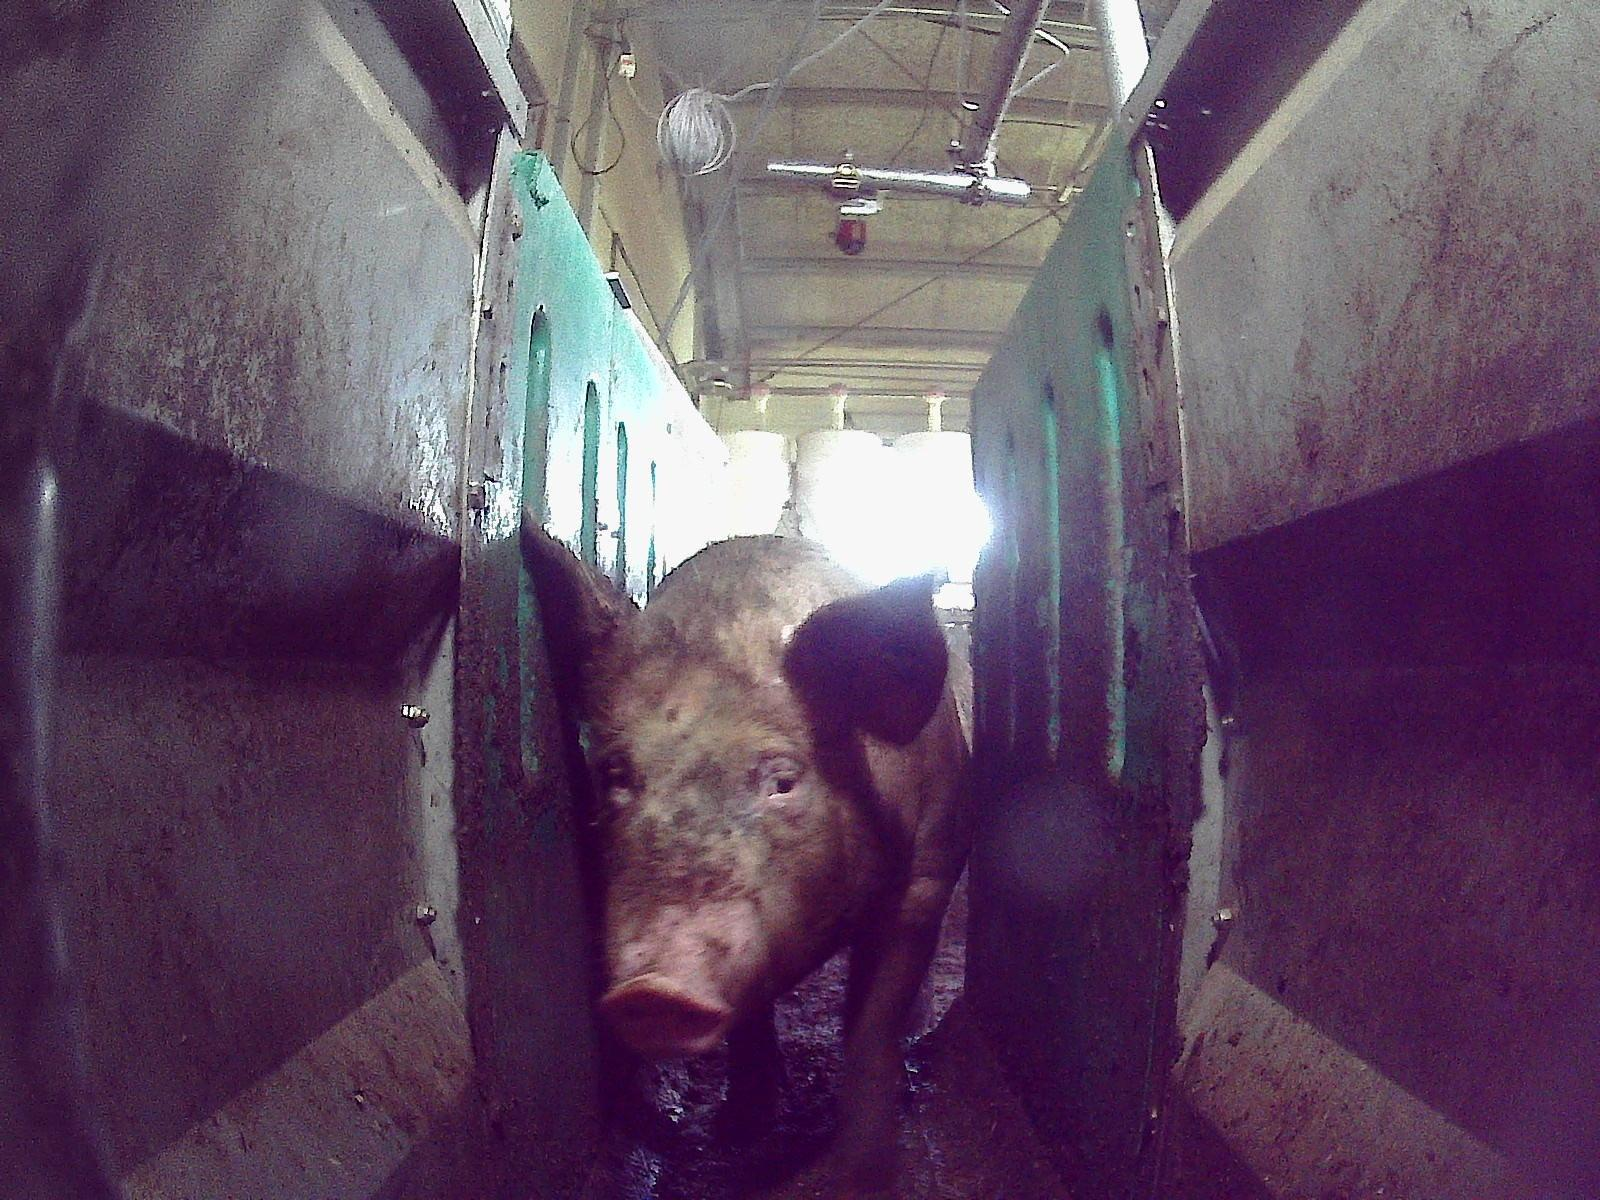Face: (574, 660, 853, 1054)
